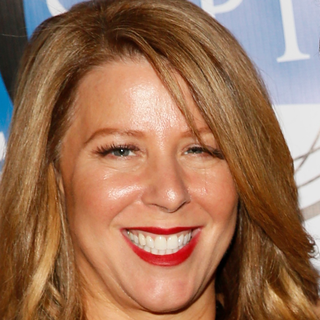eye: (97, 140, 145, 164), (178, 139, 222, 163)
